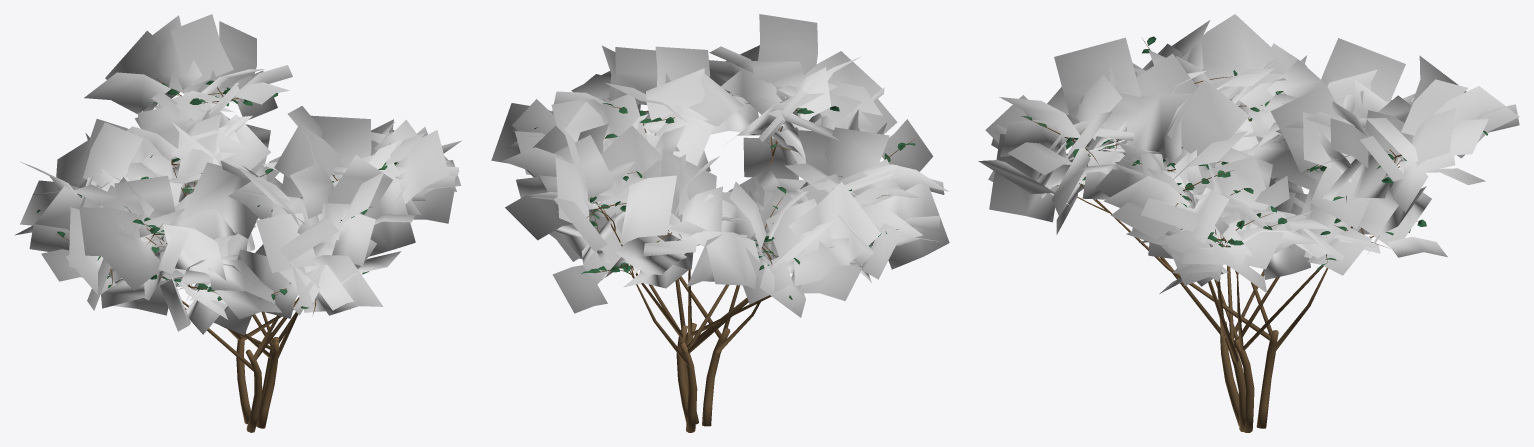
The model's file is V7_Myrte_0_Niveau1.fbx.
The picture shows the model from 3 angles, left to right: view 1: azimuth 30°, elevation 25°; view 2: azimuth 150°, elevation 25°; view 3: azimuth 270°, elevation 25°; orthographic projection. The views are drawn at different scales.
Visible parts, largest first — view 1: V7_Myrte_0_Detail1; view 2: V7_Myrte_0_Detail1; view 3: V7_Myrte_0_Detail1.
Boxes of the visible parts, <box> form: V7_Myrte_0_Detail1: <box>14,14,461,432</box>; V7_Myrte_0_Detail1: <box>491,14,949,432</box>; V7_Myrte_0_Detail1: <box>978,14,1519,432</box>.
Bounding box in the file's own units: 241 × 192 × 253.
